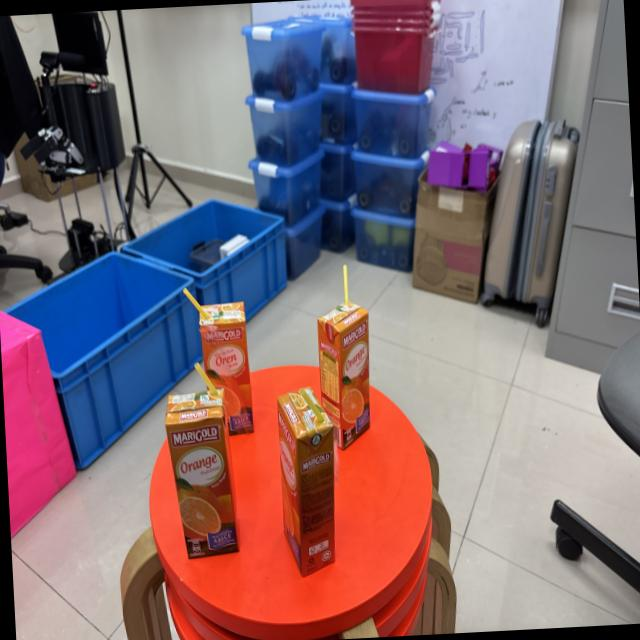drink_carton: (148, 351, 250, 574), (176, 268, 265, 446), (270, 375, 344, 581), (312, 255, 382, 457)
